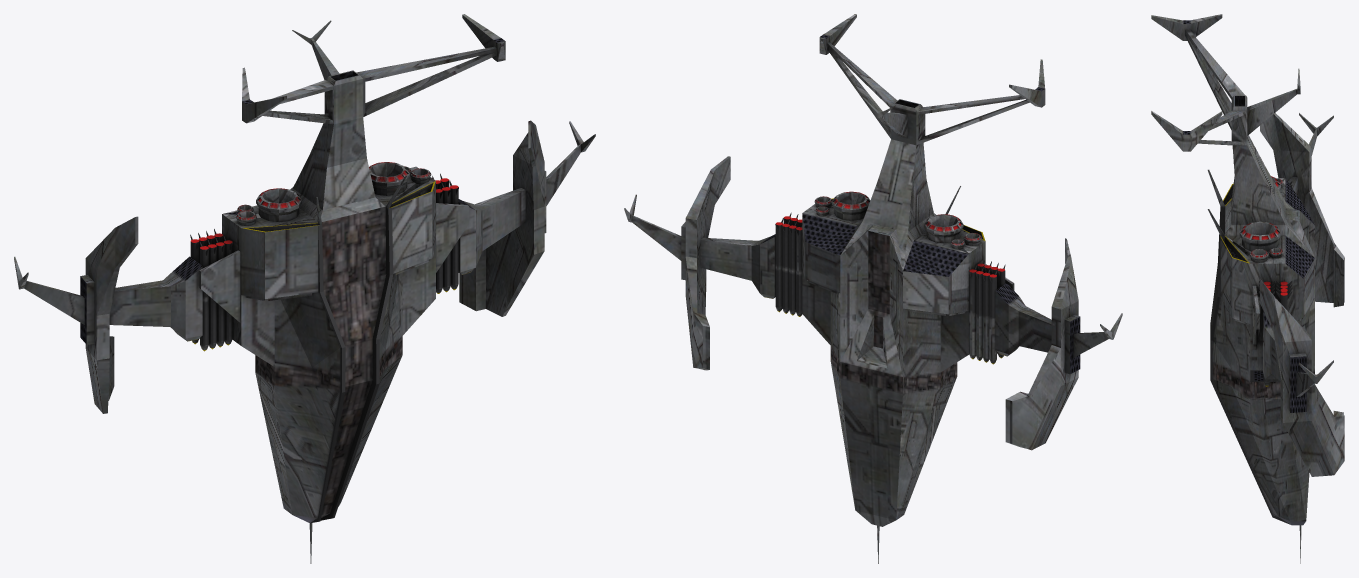
Rendered from cobrafighter.obj.
3 renders of one model, left to right at view 1: azimuth 30°, elevation 25°; view 2: azimuth 150°, elevation 25°; view 3: azimuth 270°, elevation 25°, orthographic. The views are drawn at different scales.
Parts seen in each view (by area): view 1: Object01; view 2: Object01; view 3: Object01.
Part boxes in pixels (x1,y1,x2,y2): Object01: [14, 14, 595, 563]; Object01: [624, 14, 1122, 563]; Object01: [1151, 14, 1344, 563].
Size of the model in its own units: 81.82 by 76.3 by 26.7.
